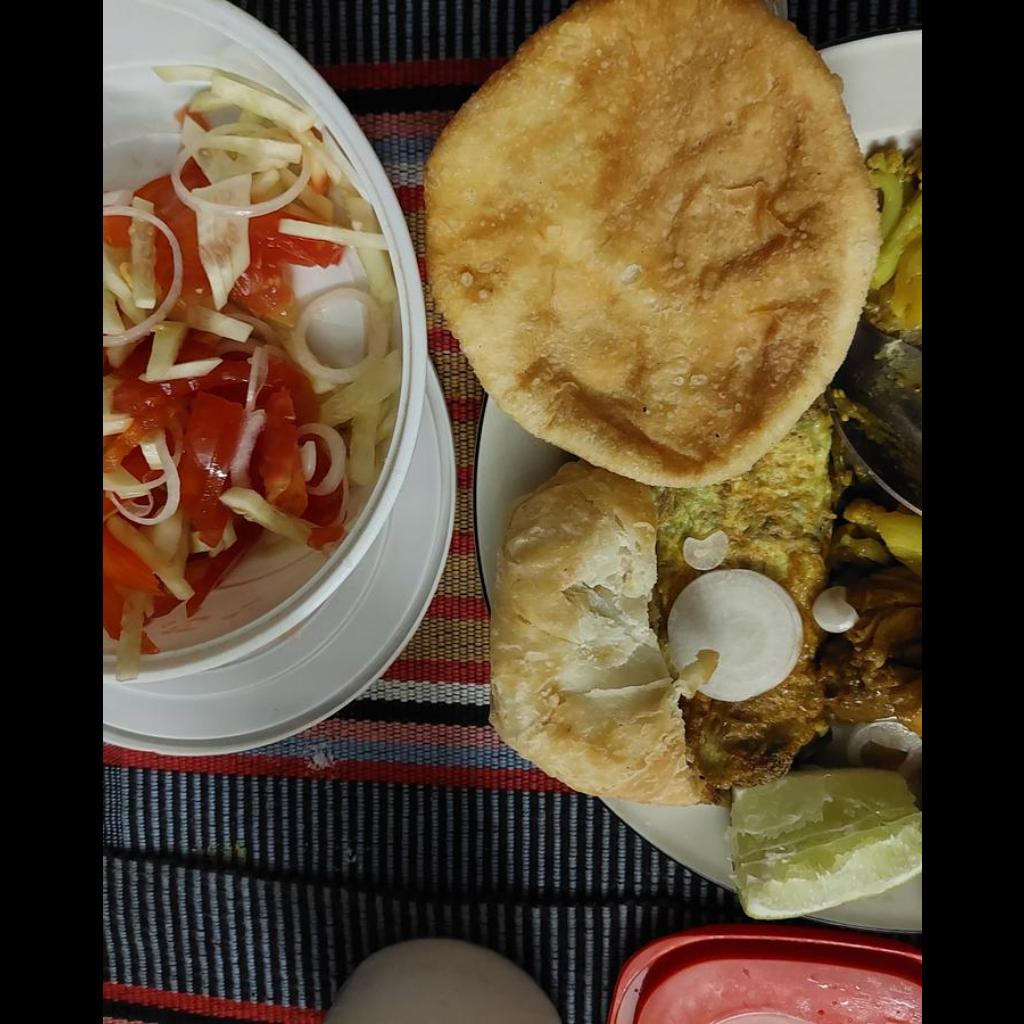egg: (664, 421, 833, 785)
lemon: (729, 766, 920, 914)
puri: (426, 2, 883, 805)
salad: (102, 72, 400, 671)
